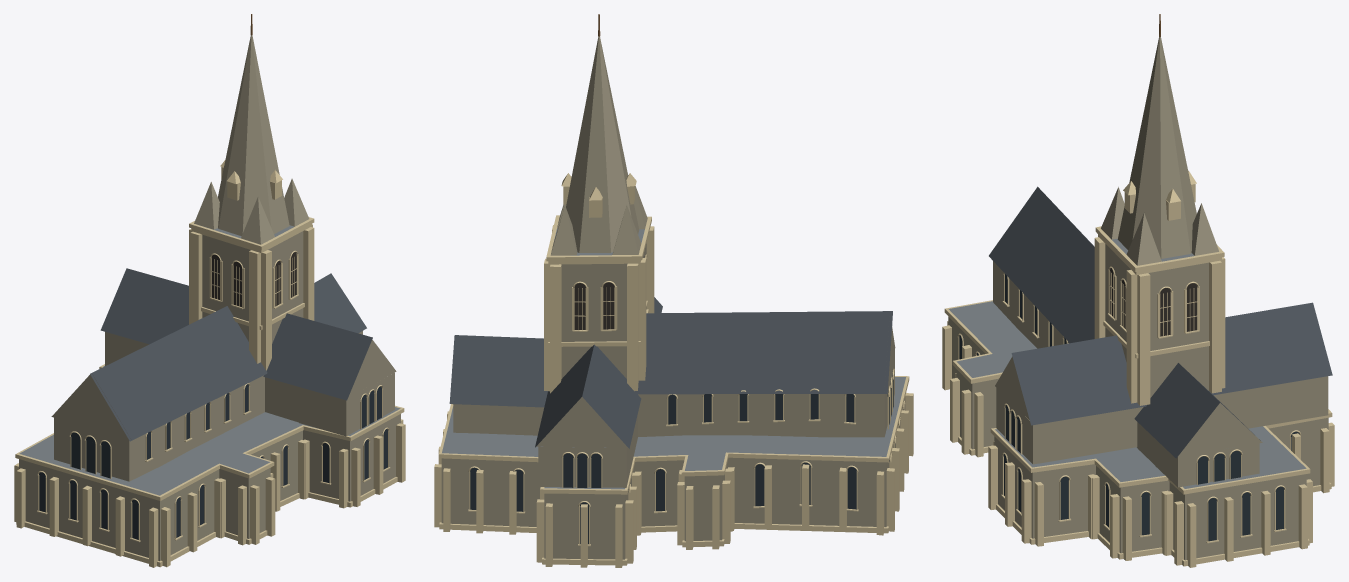
File: st_johns_notting_hill.glb
3 renders of one model, left to right at view 1: azimuth 30°, elevation 25°; view 2: azimuth 150°, elevation 25°; view 3: azimuth 270°, elevation 25°, orthographic. The views are drawn at different scales.
Bounding box in the file's own units: 42.77 × 48.05 × 34.99.
